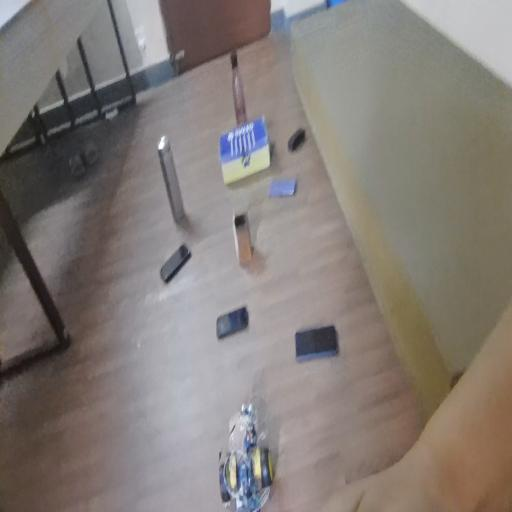Bottle: (226, 45, 253, 125)
car: (209, 403, 281, 499)
